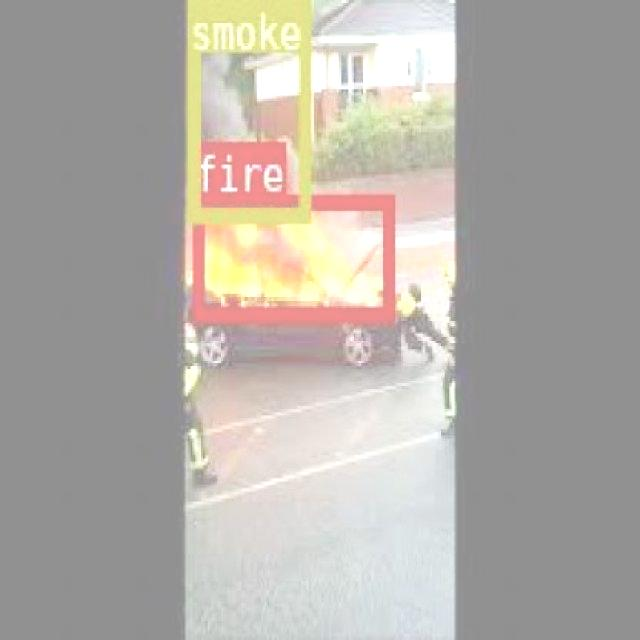fire: (192, 193, 392, 319)
smoke: (184, 0, 310, 222)
